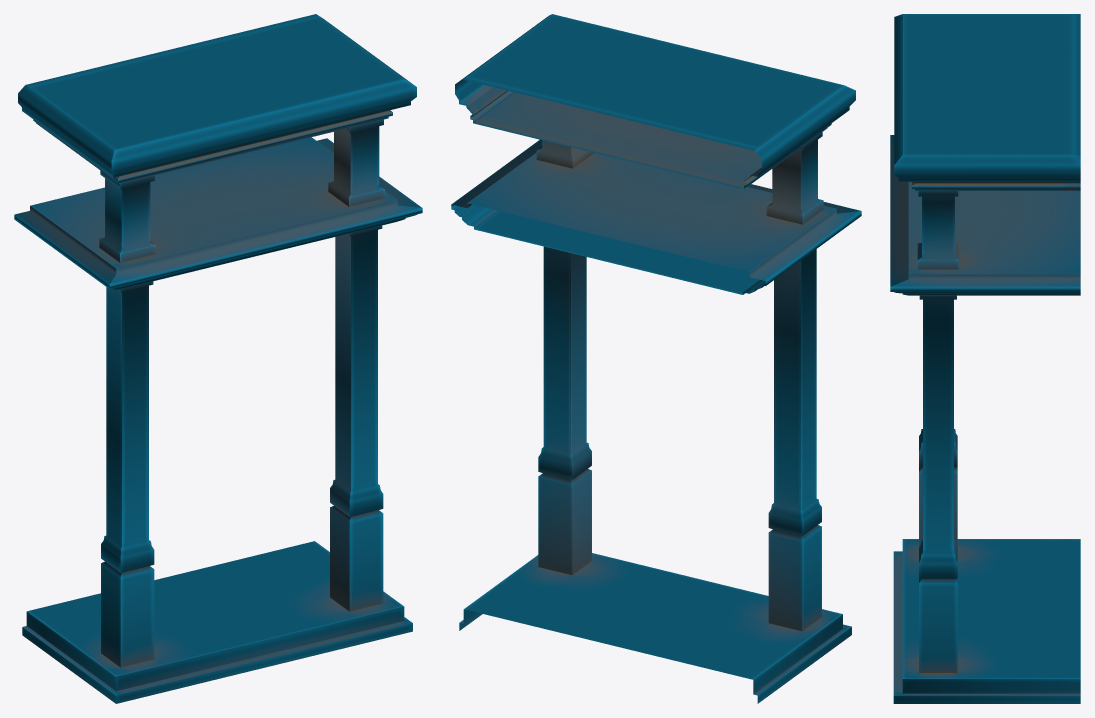
Rendered from Door_Border_Blue.fbx.
The picture shows the model from 3 angles, left to right: view 1: azimuth 30°, elevation 25°; view 2: azimuth 150°, elevation 25°; view 3: azimuth 270°, elevation 25°; orthographic projection.
Visible parts, largest first — view 1: Door_Border_Blue; view 2: Door_Border_Blue; view 3: Door_Border_Blue.
Boxes of the visible parts, x1,y1,x2,y2 form: Door_Border_Blue: (14,14,422,703); Door_Border_Blue: (451,14,861,703); Door_Border_Blue: (890,14,1080,703).
Size of the model in its own units: 188 by 315 by 99.24.
Materials: 1 (1 with a texture image).
